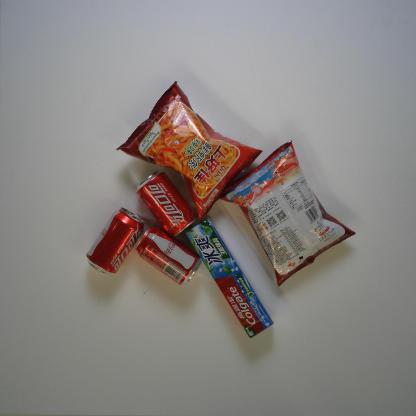Drink: (134, 168, 198, 240), (84, 207, 146, 277), (134, 224, 202, 287)
Personal Hygiene: (185, 216, 274, 342)
Puffed Food: (216, 137, 358, 290), (115, 80, 264, 224)
